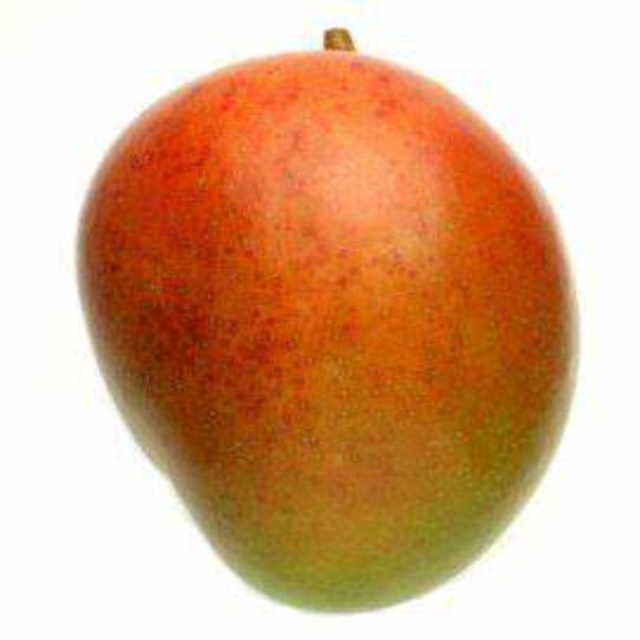mango: (79, 47, 576, 612)
